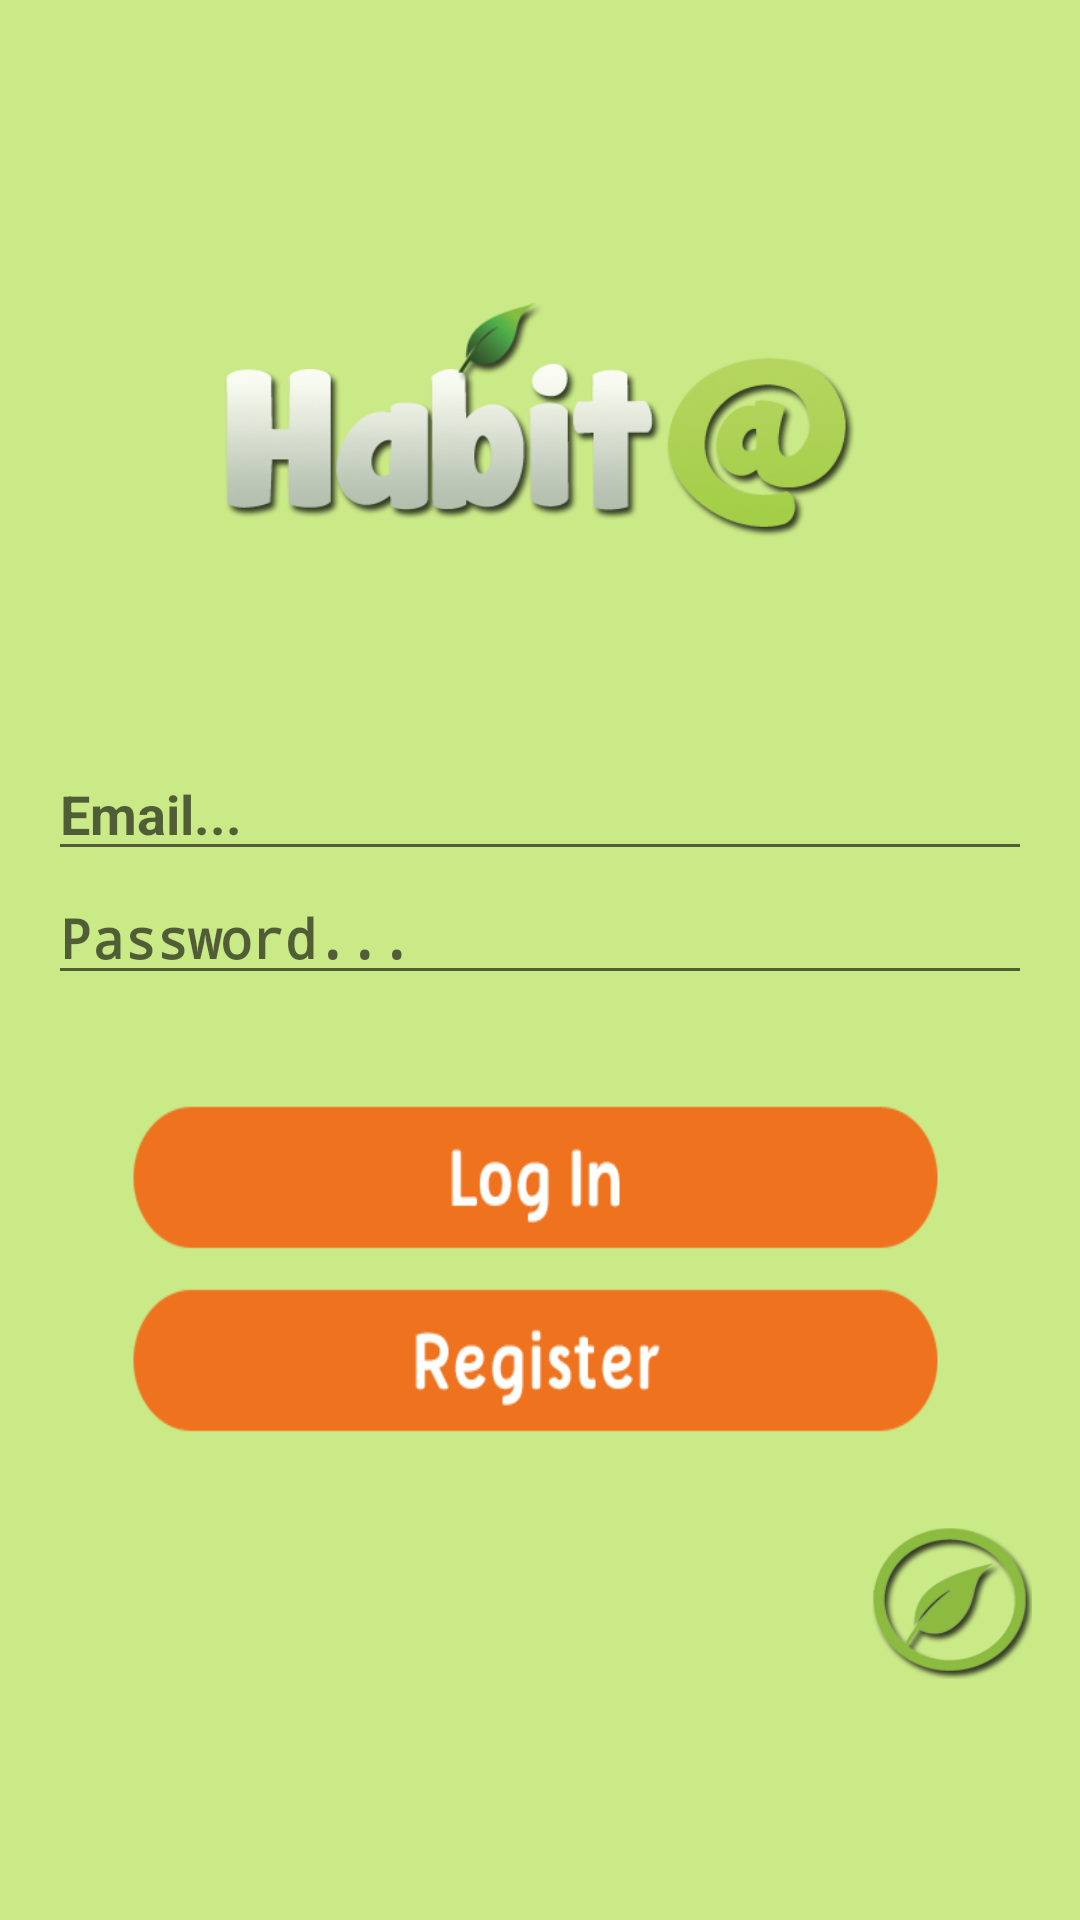

Screen size 1080x1920. Icon name, then its center in pixels as (x,y):
leaf: (952,1603)
